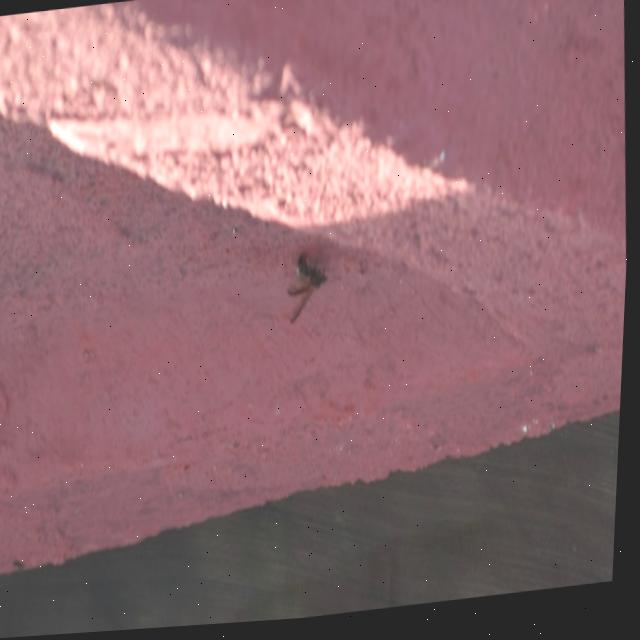Alive-Male-Alate: (286, 252, 336, 330)
